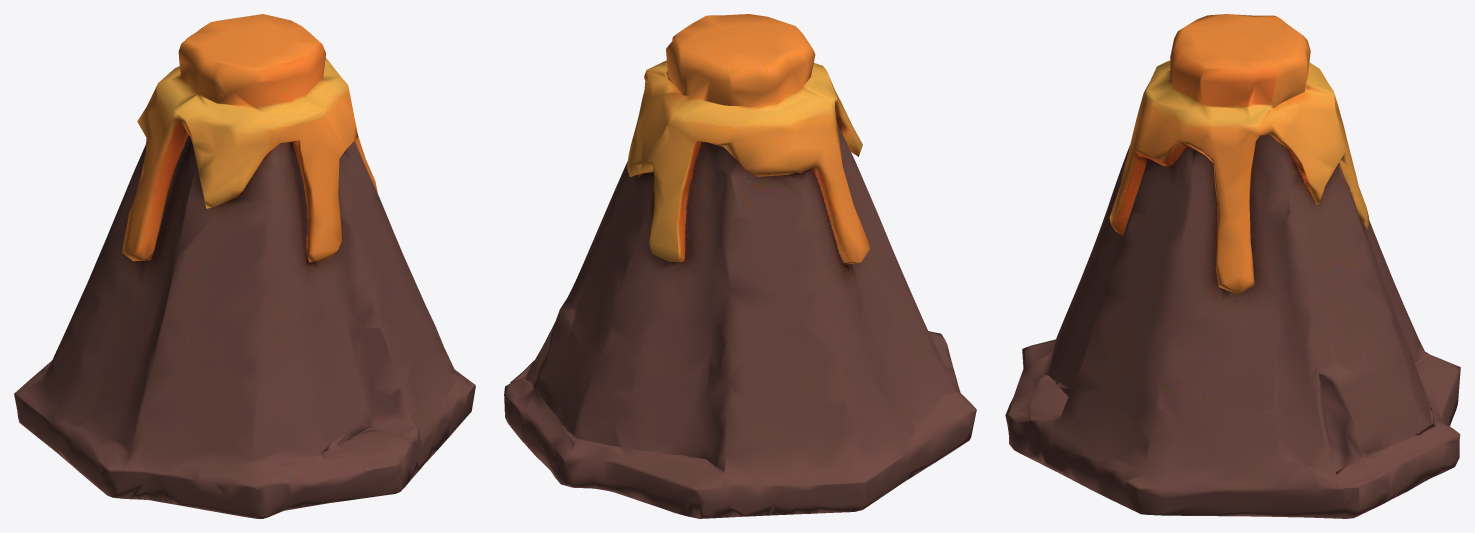
The model's file is volcano.glb.
The picture shows the model from 3 angles, left to right: view 1: azimuth 30°, elevation 25°; view 2: azimuth 150°, elevation 25°; view 3: azimuth 270°, elevation 25°; orthographic projection. The views are drawn at different scales.
Visible parts, largest first — view 1: tripo_node_0403b60f-500f-44aa-93dd-54a827d8e661; view 2: tripo_node_0403b60f-500f-44aa-93dd-54a827d8e661; view 3: tripo_node_0403b60f-500f-44aa-93dd-54a827d8e661.
Part boxes in pixels (<box>): tripo_node_0403b60f-500f-44aa-93dd-54a827d8e661: <box>14,14,475,518</box>; tripo_node_0403b60f-500f-44aa-93dd-54a827d8e661: <box>504,14,976,518</box>; tripo_node_0403b60f-500f-44aa-93dd-54a827d8e661: <box>1005,14,1460,518</box>.
Bounding box in the file's own units: 0.9632 × 0.9509 × 1.
1 material, 1 textured.
